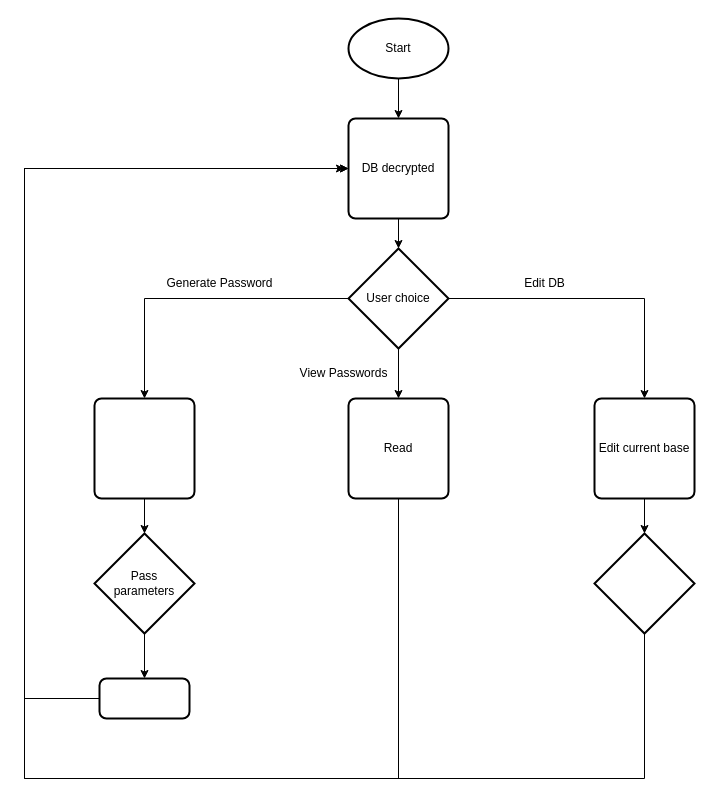
Some shapes in this 713 by 804 pixel diagram are drawn without their labels. The shapes that lost their labels are listed below. From the top down, each one's centre as x and y in pixels, then its label:
At (x=144, y=448): "PassGenerator".
At (x=644, y=583): "Create new row".
At (x=144, y=698): "Generation".
